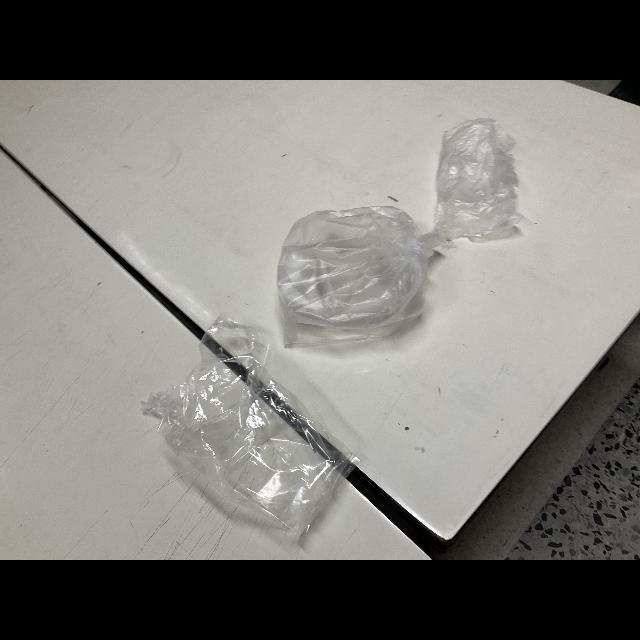plastic_bag: (123, 310, 365, 548), (256, 202, 444, 344)
scrap_plastic: (438, 115, 532, 258)
